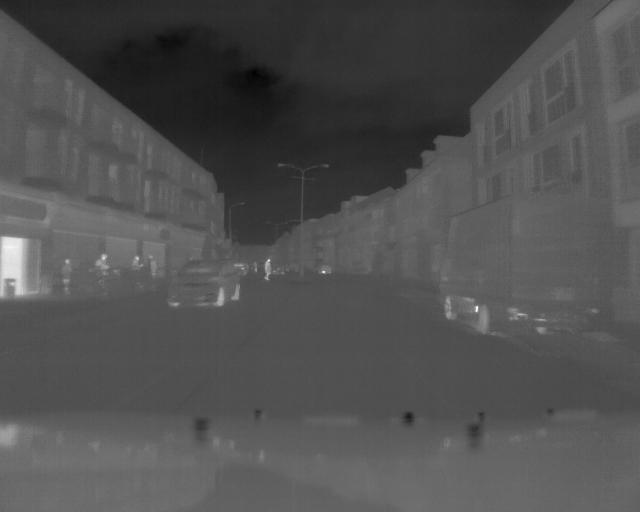car: (441, 190, 614, 339), (167, 258, 245, 308)
person: (59, 256, 75, 297), (92, 250, 114, 278), (128, 254, 145, 274), (263, 255, 274, 281)
